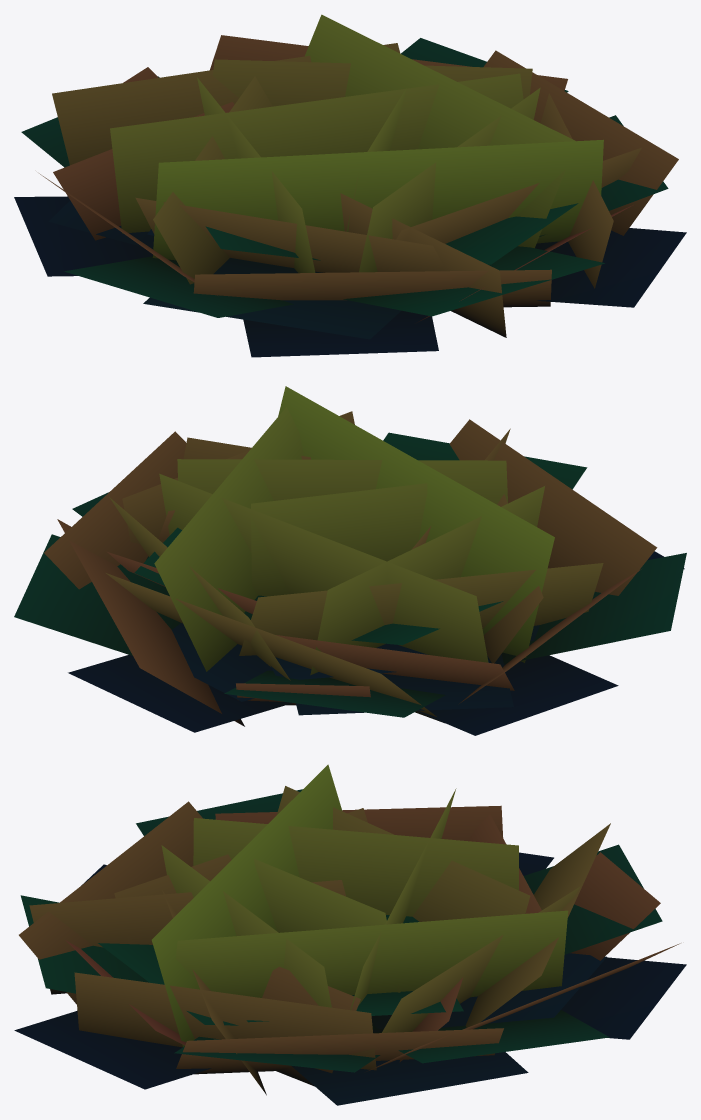
The model's file is TSI_Grass_Patch_01A.fbx.
3 views of the same model, one above another, from view 1: azimuth 30°, elevation 25°; view 2: azimuth 150°, elevation 25°; view 3: azimuth 270°, elevation 25° (orthographic).
Parts seen in each view (by area): view 1: TSI_Grass_Patch_01A_LOD0; view 2: TSI_Grass_Patch_01A_LOD0; view 3: TSI_Grass_Patch_01A_LOD0.
Part boxes in pixels (x1,y1,x2,y2): TSI_Grass_Patch_01A_LOD0: (14, 14, 686, 357); TSI_Grass_Patch_01A_LOD0: (14, 386, 686, 735); TSI_Grass_Patch_01A_LOD0: (14, 764, 686, 1105).
Bounding box in the file's own units: 317 × 66.31 × 315.
